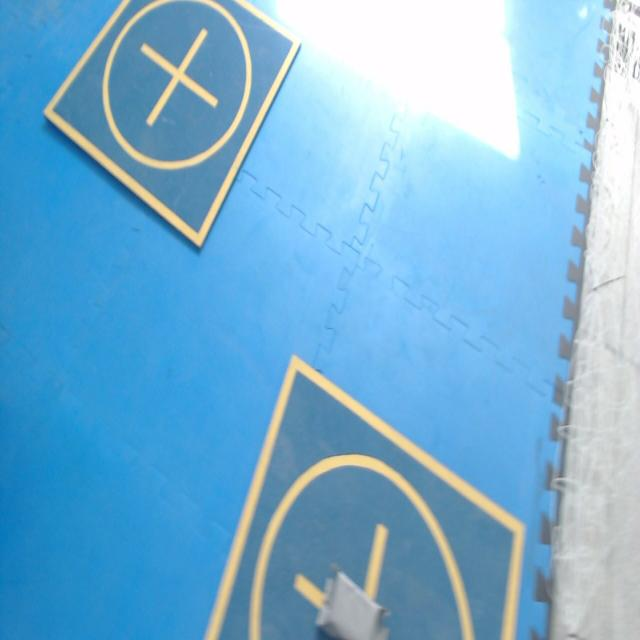esquerda: (316, 567, 388, 639)
